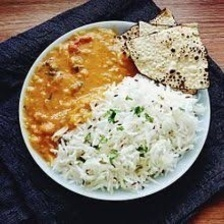rice: (58, 82, 209, 193)
